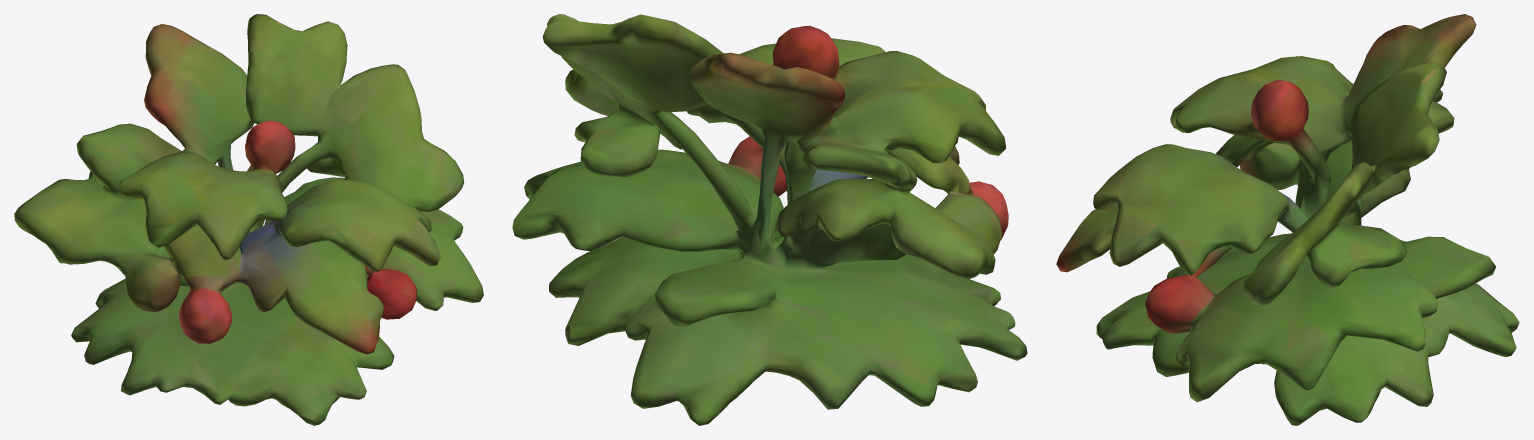
The model's file is bayas_separadas.glb.
3 renders of one model, left to right at view 1: azimuth 30°, elevation 25°; view 2: azimuth 150°, elevation 25°; view 3: azimuth 270°, elevation 25°, orthographic. The views are drawn at different scales.
Visible parts, largest first — view 1: bayas, bayas.001; view 2: bayas, bayas.001; view 3: bayas, bayas.001.
Part boxes in pixels (bbox=[...]): bayas: bbox=[14, 14, 483, 425]; bayas.001: bbox=[144, 82, 419, 343]; bayas: bbox=[512, 14, 1027, 425]; bayas.001: bbox=[724, 25, 1008, 239]; bayas: bbox=[1056, 14, 1519, 425]; bayas.001: bbox=[1145, 30, 1396, 333].
Size of the model in its own units: 1.32 by 0.9 by 1.17.
1 material, 1 textured.
